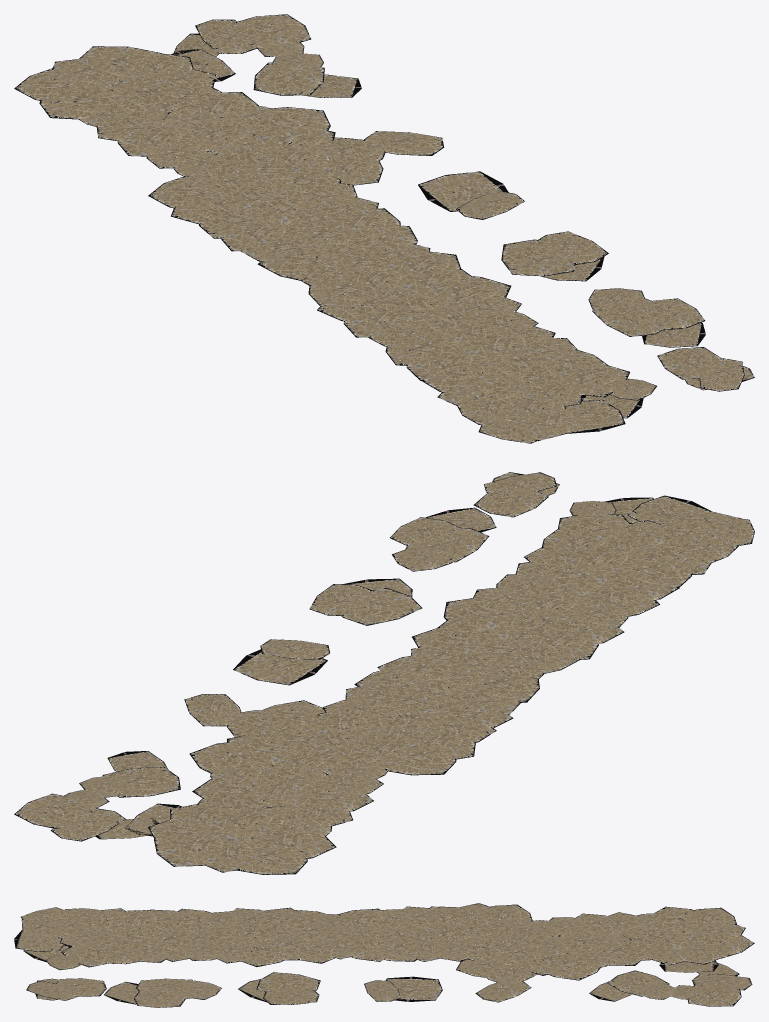
The model's file is wooden_building_e_stables_hay.glb.
3 renders of one model, top to bottom at view 1: azimuth 30°, elevation 25°; view 2: azimuth 150°, elevation 25°; view 3: azimuth 270°, elevation 25°, orthographic. The views are drawn at different scales.
Visible parts, largest first — view 1: wooden_building_e_stables_hay; view 2: wooden_building_e_stables_hay; view 3: wooden_building_e_stables_hay.
Part boxes in pixels (bbox=[...]): wooden_building_e_stables_hay: bbox=[14, 14, 754, 443]; wooden_building_e_stables_hay: bbox=[14, 472, 754, 874]; wooden_building_e_stables_hay: bbox=[14, 903, 754, 1007].
Size of the model in its own units: 13.42 by 0.1598 by 40.27.
1 material, 1 textured.
